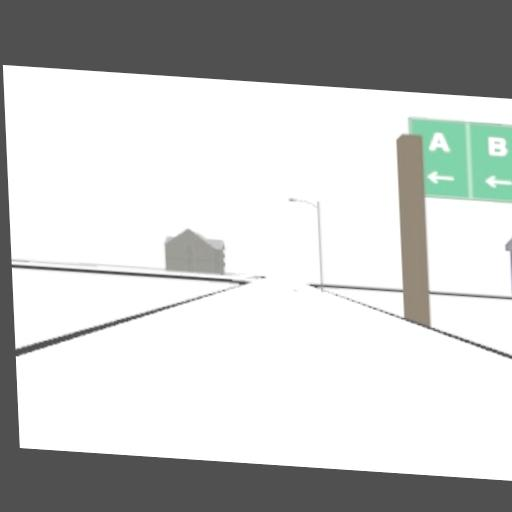A: (426, 128, 450, 152)
B: (486, 135, 506, 155)
Left: (425, 169, 456, 184), (483, 173, 512, 188)
